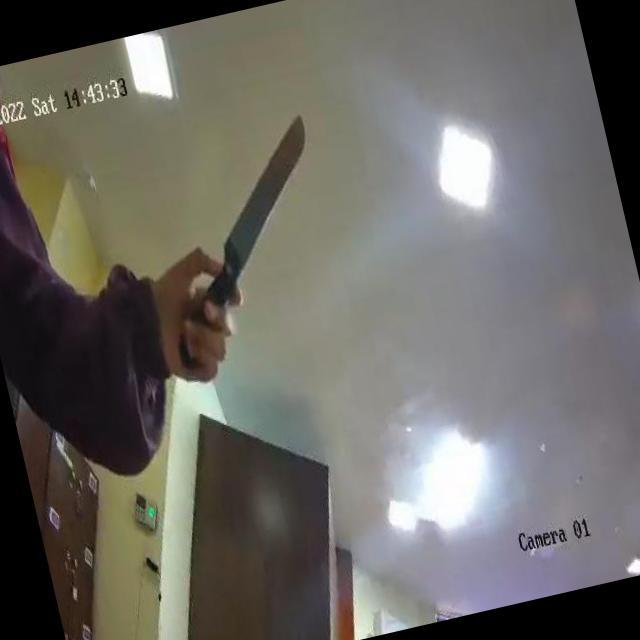Knife: (130, 106, 355, 376)
